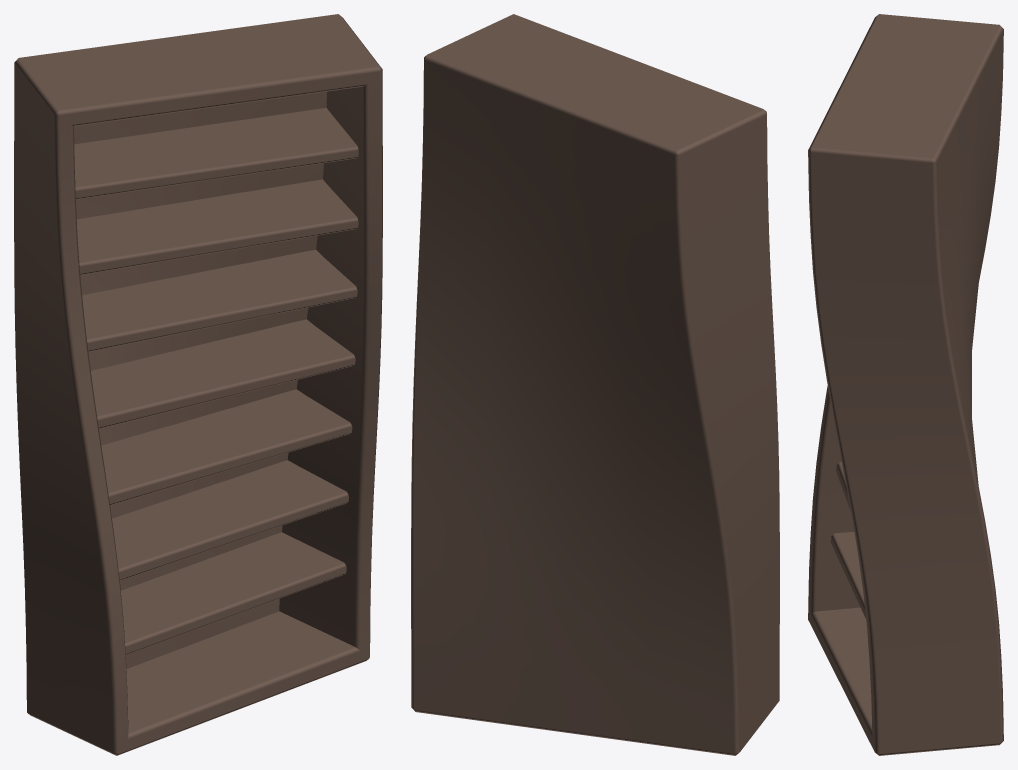
The model's file is Prop_Bookshelf_Empty_B_Mesh.fbx.
3 views of the same model, side by side, from view 1: azimuth 30°, elevation 25°; view 2: azimuth 150°, elevation 25°; view 3: azimuth 270°, elevation 25° (orthographic). The views are drawn at different scales.
Parts seen in each view (by area): view 1: Prop_Bookshelf_Empty_B_Mesh; view 2: Prop_Bookshelf_Empty_B_Mesh; view 3: Prop_Bookshelf_Empty_B_Mesh.
Part boxes in pixels (box(x1,y1,x2,y2)): Prop_Bookshelf_Empty_B_Mesh: box(14, 14, 382, 755); Prop_Bookshelf_Empty_B_Mesh: box(411, 14, 779, 755); Prop_Bookshelf_Empty_B_Mesh: box(808, 14, 1003, 755).
Bounding box in the file's own units: 2.64 × 5 × 1.48.
